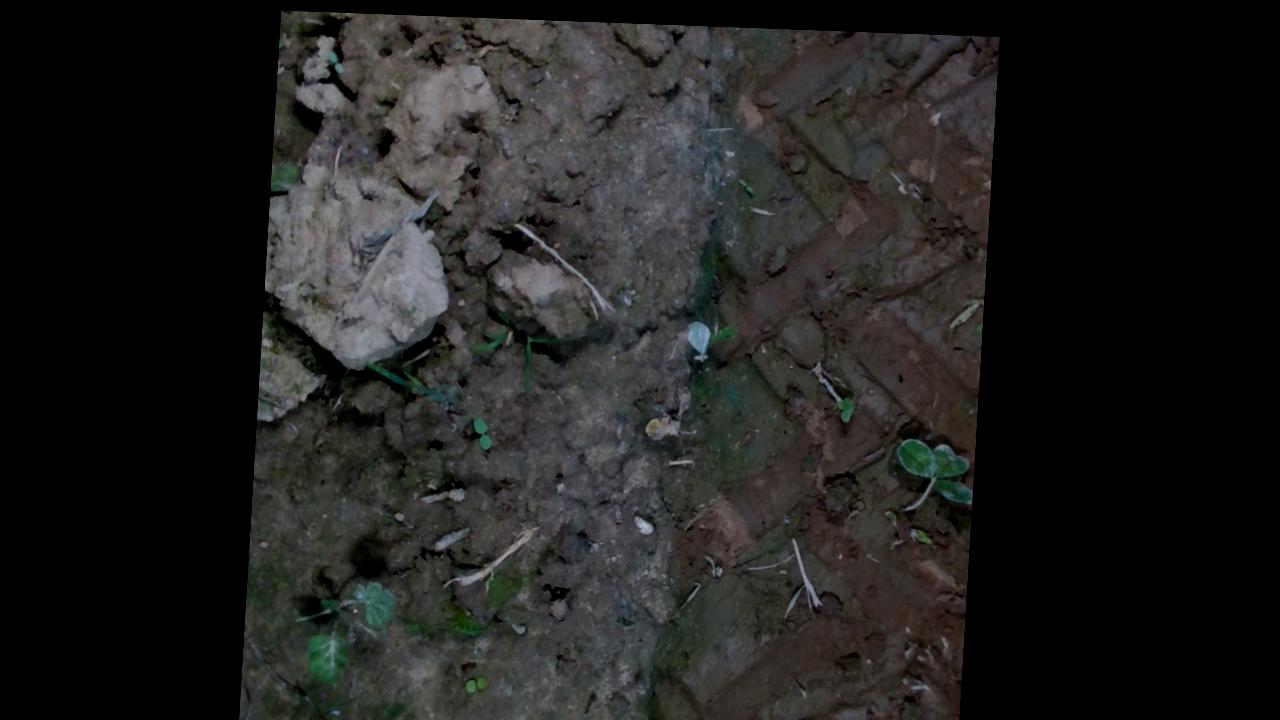weed: (476, 410, 501, 447), (472, 670, 496, 689)
